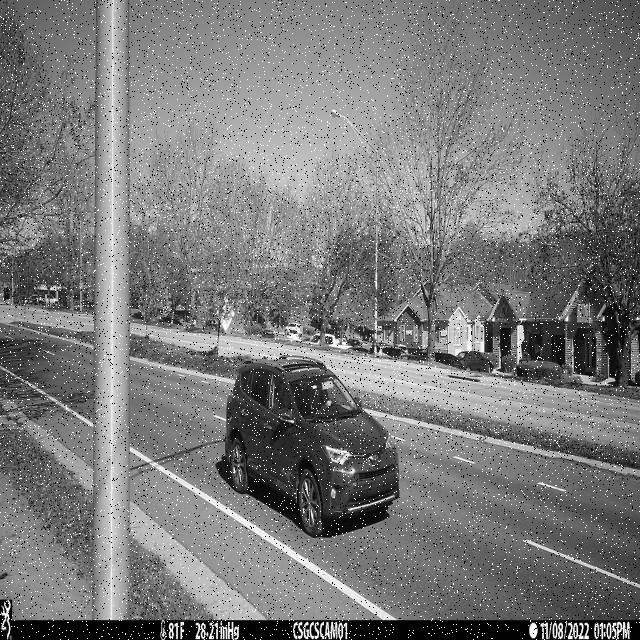SUV: (224, 353, 399, 538)
